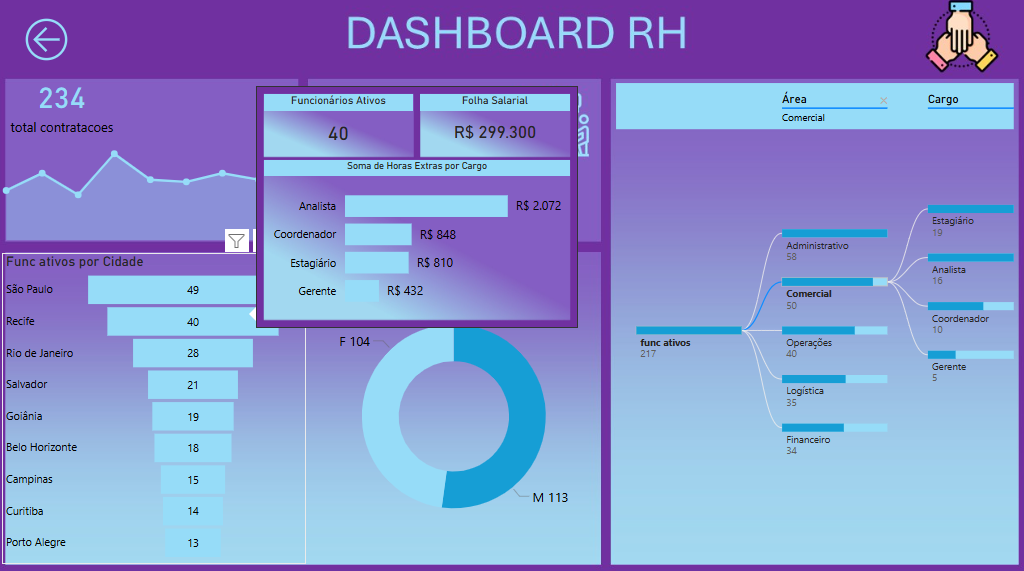

This screenshot's page, from the dashboard's own definition file:
{"tool":"powerbi","page":{"name":"Dashboard","canvas":[1280,720],"ordinal":0},"visuals":[{"type":"card","fields":{"Values":["medidas.total contratacoes"]},"box":[10.3,90,147.8,93.8],"z":0},{"type":"card","fields":{"Values":["medidas.func ativos"]},"box":[372.5,107.1,237,121.9],"z":1},{"type":"card","fields":{"Values":["medidas.func desligados"]},"box":[385.5,214.6,210.8,93.8],"z":2},{"type":"card","fields":{"Values":["medidas.turnover"]},"box":[580.9,217.2,158.1,88.7],"z":3},{"type":"stackedAreaChart","fields":{"Category":["Plan1.Data de Contratacao.Variation.Hierarquia de datas.Ano"],"Y":["medidas.total contratacoes"]},"box":[0,179.9,386,131],"z":4},{"type":"funnel","title":"Func ativos por Cidade","fields":{"Category":["Plan1.Cidade"],"Y":["medidas.func ativos"]},"box":[10.3,321.3,375.3,384.3],"z":5},{"type":"donutChart","title":"Func Ativos por Genero","fields":{"Category":["Plan1.Genero"],"Y":["medidas.func ativos"]},"box":[385.5,321.3,365,384.3],"z":6},{"type":"decompositionTreeVisual","fields":{"Analyze":["medidas.func ativos"],"ExplainBy":["Plan1.Área","Plan1.Cargo"]},"box":[763.4,106.7,501.2,598.9],"z":7}]}

Visuals, with their boxes in screenshot pixels (x1, y1, x2, y2), scaled from the page's 1280x720 canvas onto the 1024x571 screenshot:
card - medidas.total contratacoes: region(8, 71, 126, 146)
card - medidas.func ativos: region(298, 85, 488, 182)
card - medidas.func desligados: region(308, 170, 477, 245)
card - medidas.turnover: region(465, 172, 591, 243)
stackedAreaChart - Plan1.Data de Contratacao.Variation.Hierarquia de datas.Ano x medidas.total contratacoes: region(0, 143, 309, 247)
"Func ativos por Cidade" funnel: region(8, 255, 308, 560)
"Func Ativos por Genero" donutChart: region(308, 255, 600, 560)
decompositionTreeVisual - medidas.func ativos x Plan1.Área: region(611, 85, 1012, 560)
